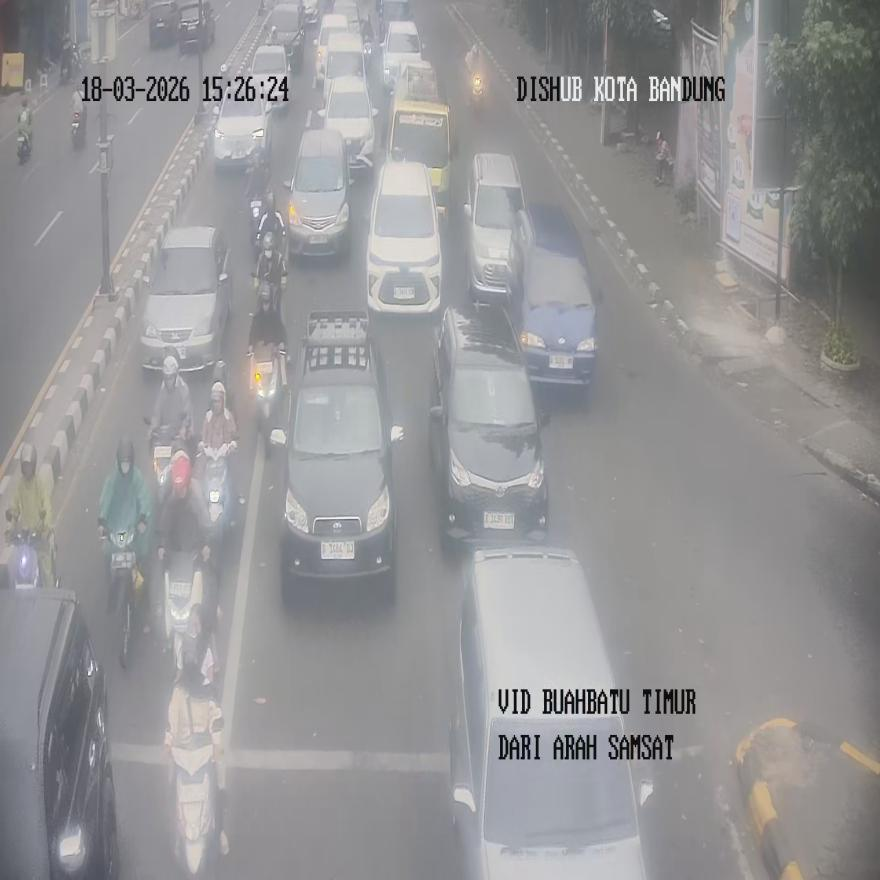Mobil: (449, 546, 654, 877), (269, 312, 402, 602), (0, 587, 119, 878), (428, 303, 547, 535), (506, 201, 600, 387), (139, 226, 231, 376), (366, 158, 443, 317), (388, 78, 456, 222), (464, 153, 526, 306), (284, 126, 352, 259)
Motor: (165, 686, 226, 878), (164, 551, 218, 688), (101, 519, 145, 668), (247, 278, 288, 431), (197, 441, 236, 570), (5, 507, 58, 589), (144, 416, 176, 505), (465, 48, 483, 110), (654, 132, 673, 186), (17, 103, 33, 163), (60, 42, 79, 86), (71, 96, 85, 148)
